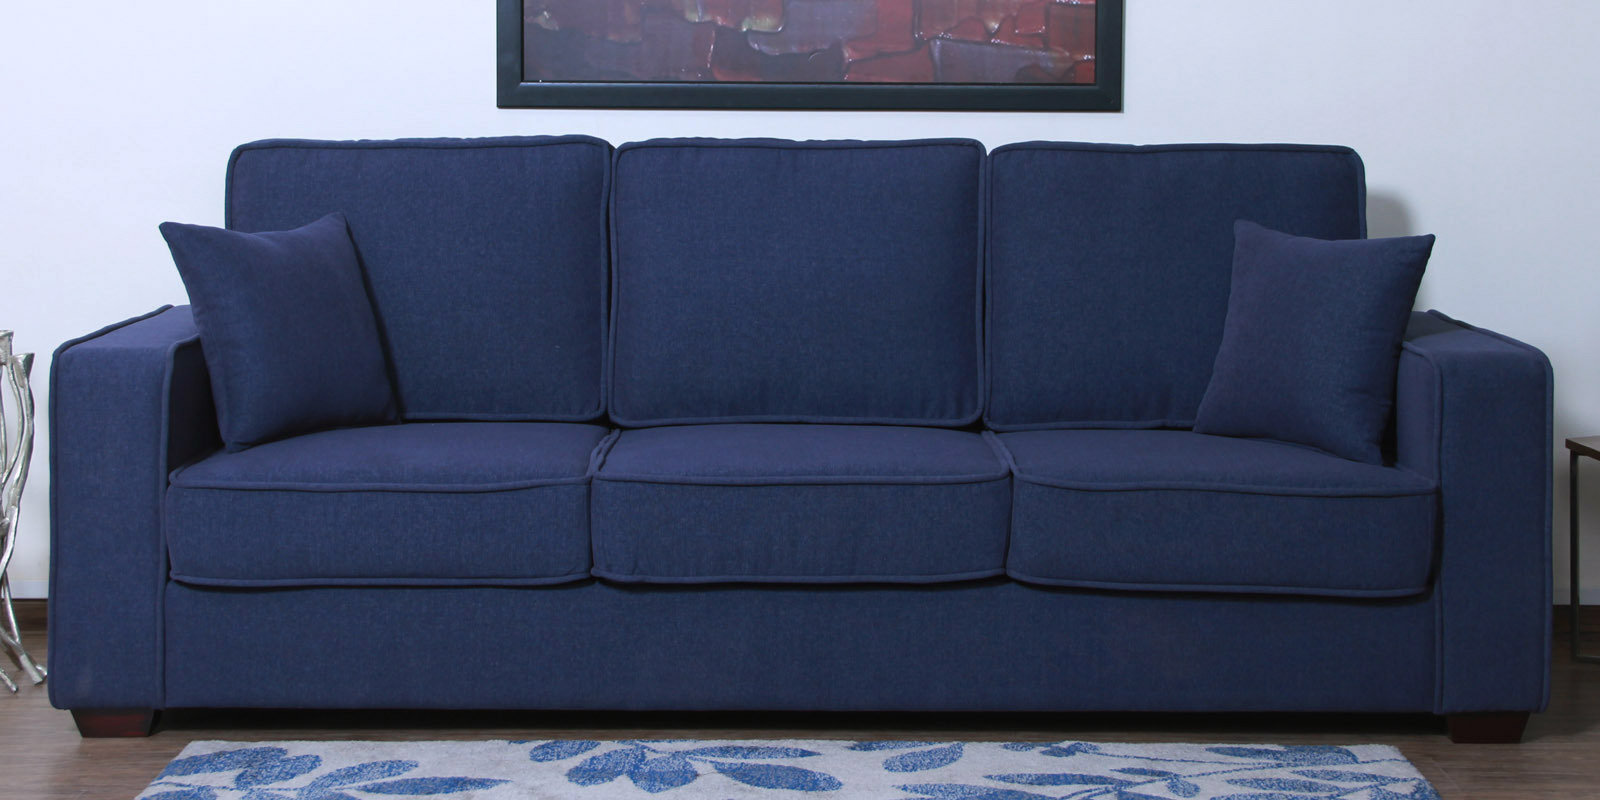Hugo Three Seater Sofa in Navy Blue Colour by CasaCraft: (39, 119, 1564, 740)
